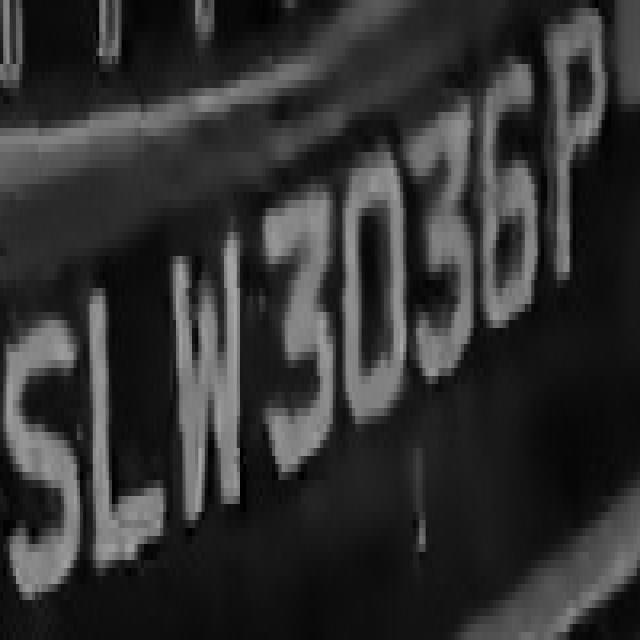0: (336, 128, 416, 448)
3: (397, 88, 477, 408), (256, 184, 336, 488)
6: (470, 48, 548, 352)
L: (80, 256, 166, 576)
P: (548, 0, 614, 304)
S: (3, 288, 83, 592)
W: (157, 216, 253, 544)
